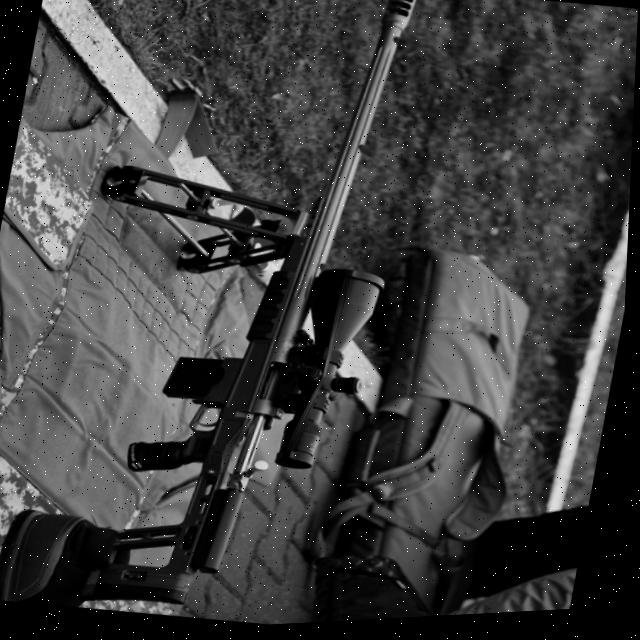firearm: (20, 0, 440, 638)
